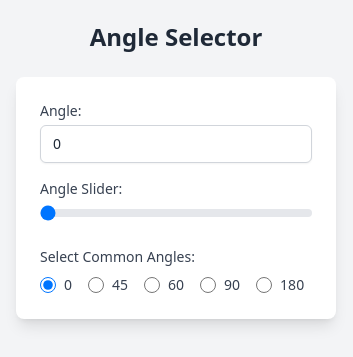
AngleSelector Component › shows message for invalid angle
Replace the text in the number field labelled "Angle:" with "400" at (176, 144), box [40,125,312,163]
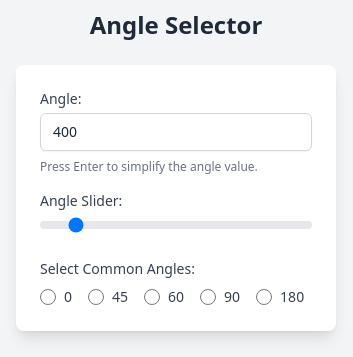
expect the text "Press Enter to simplify the angle value." is shown: met, box [40,158,258,175]
